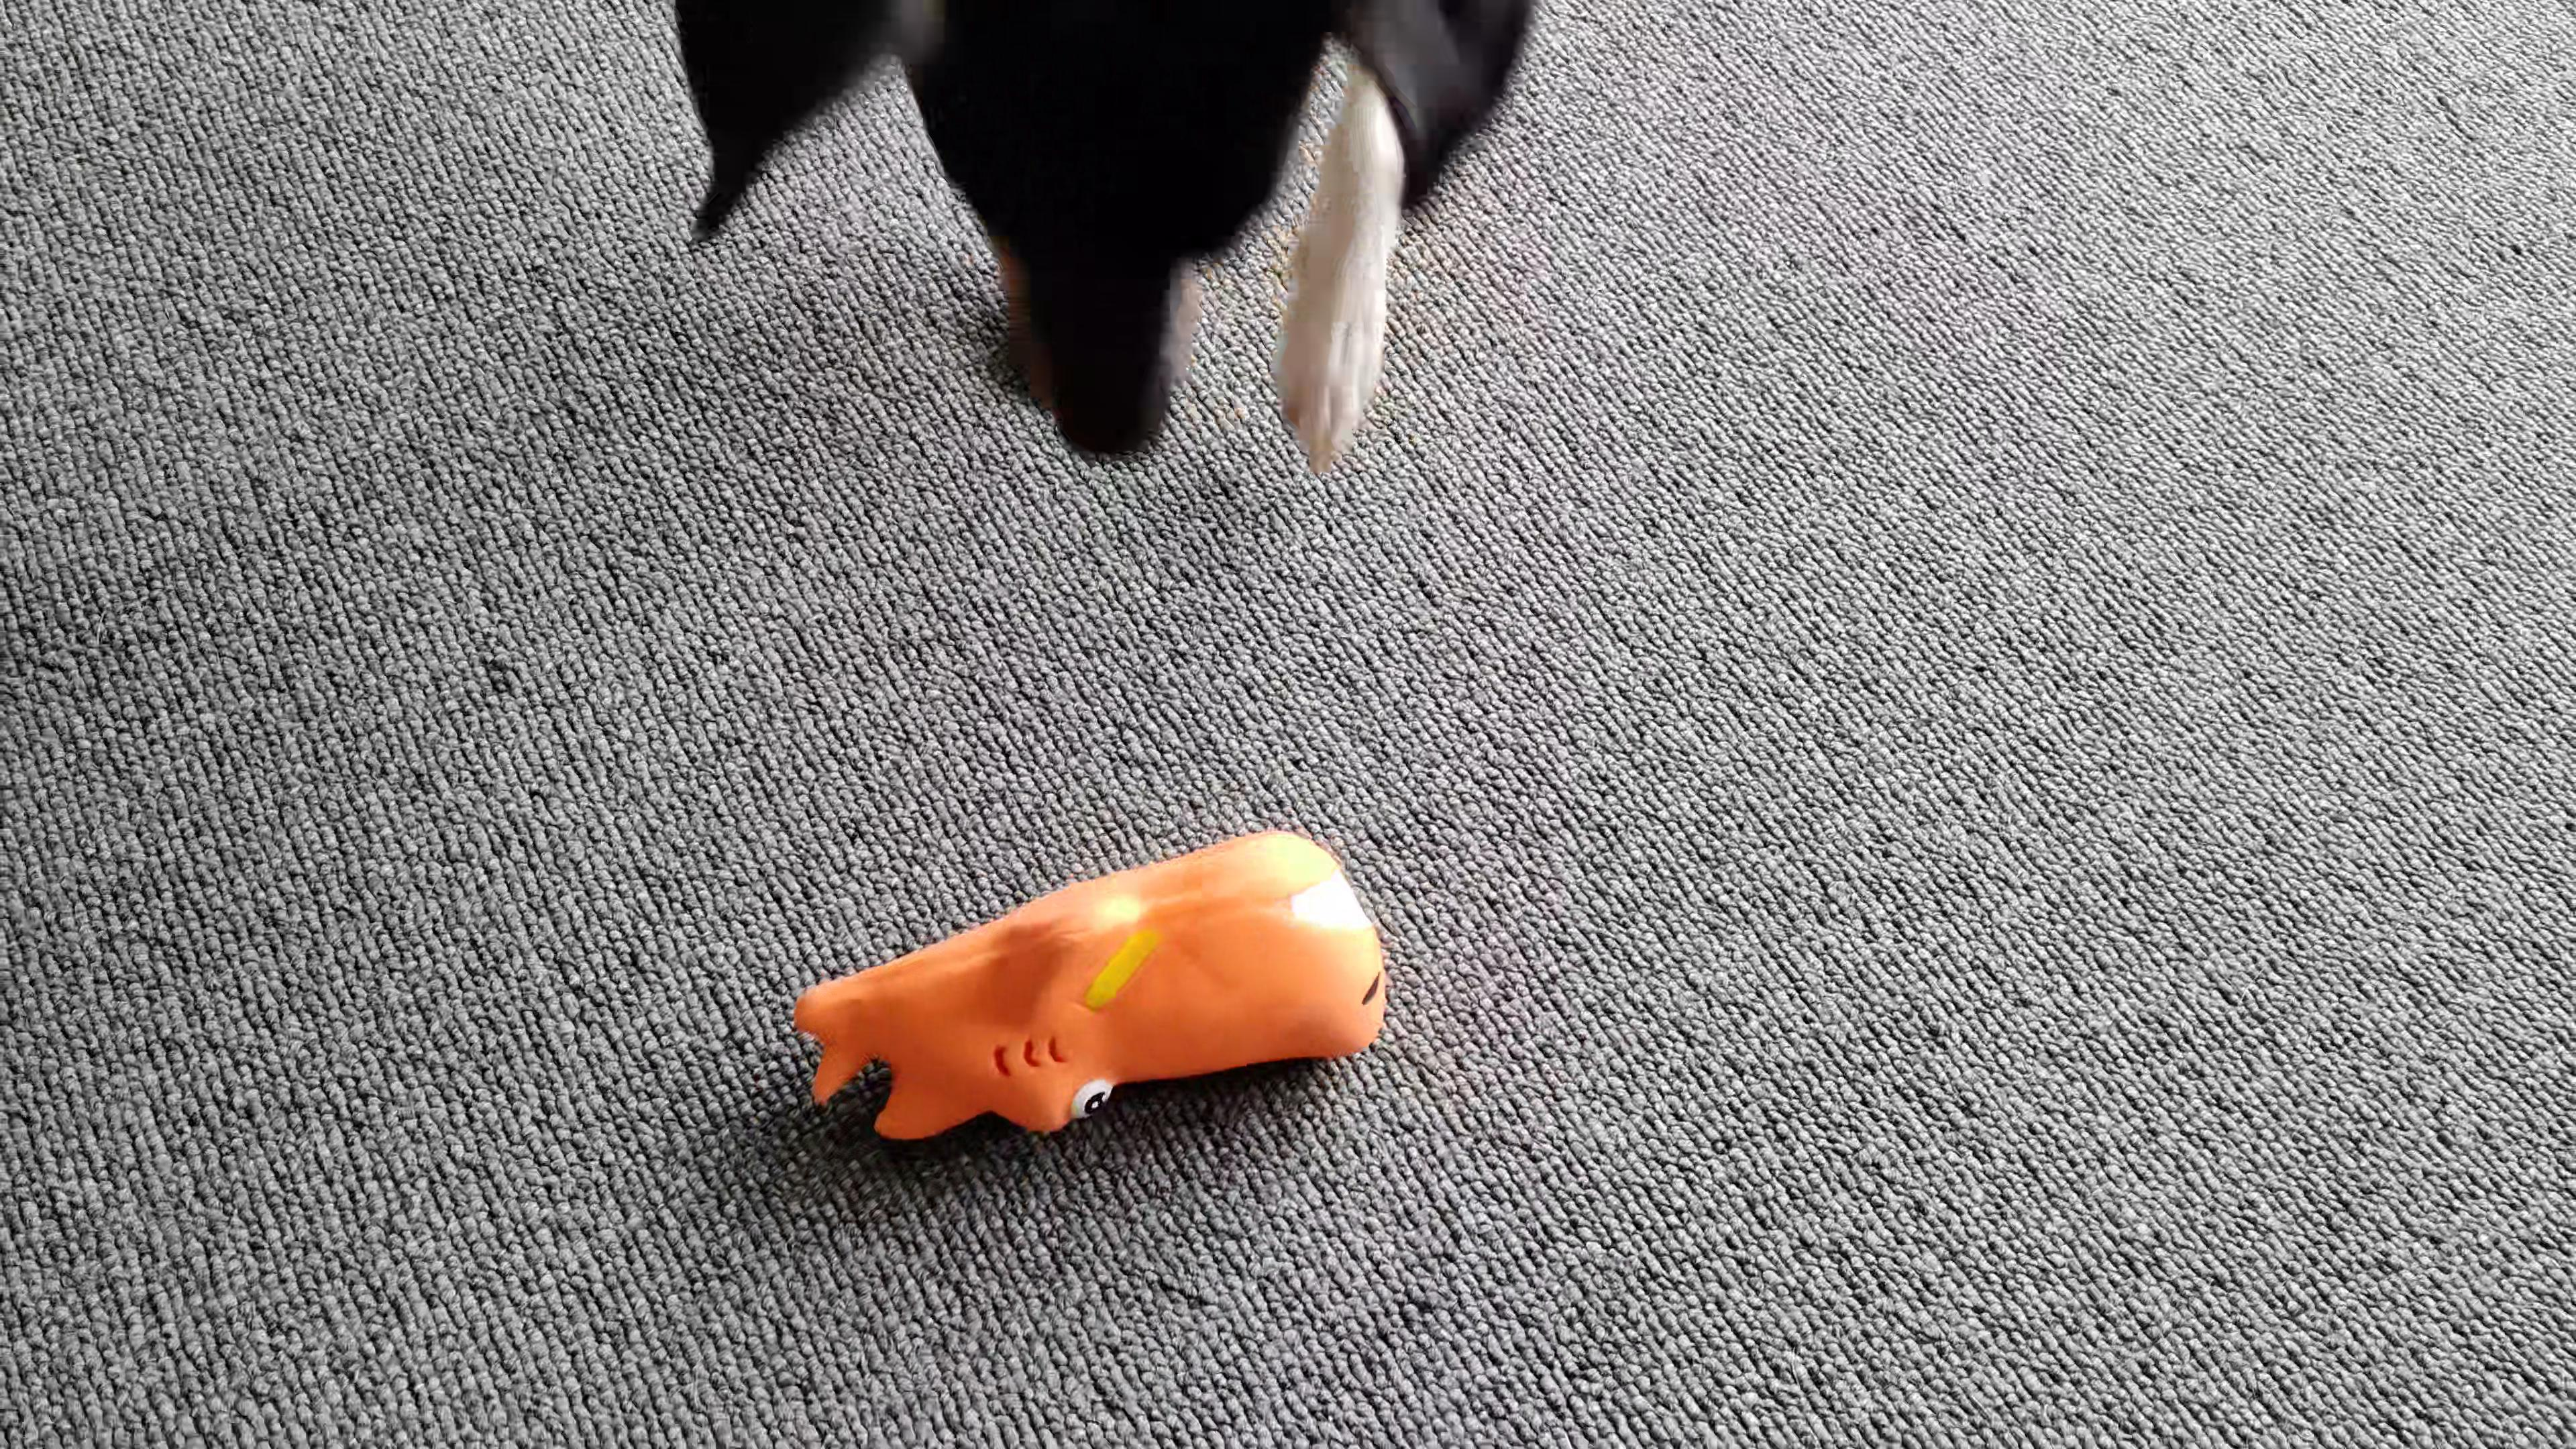Dog: (635, 0, 1580, 557)
